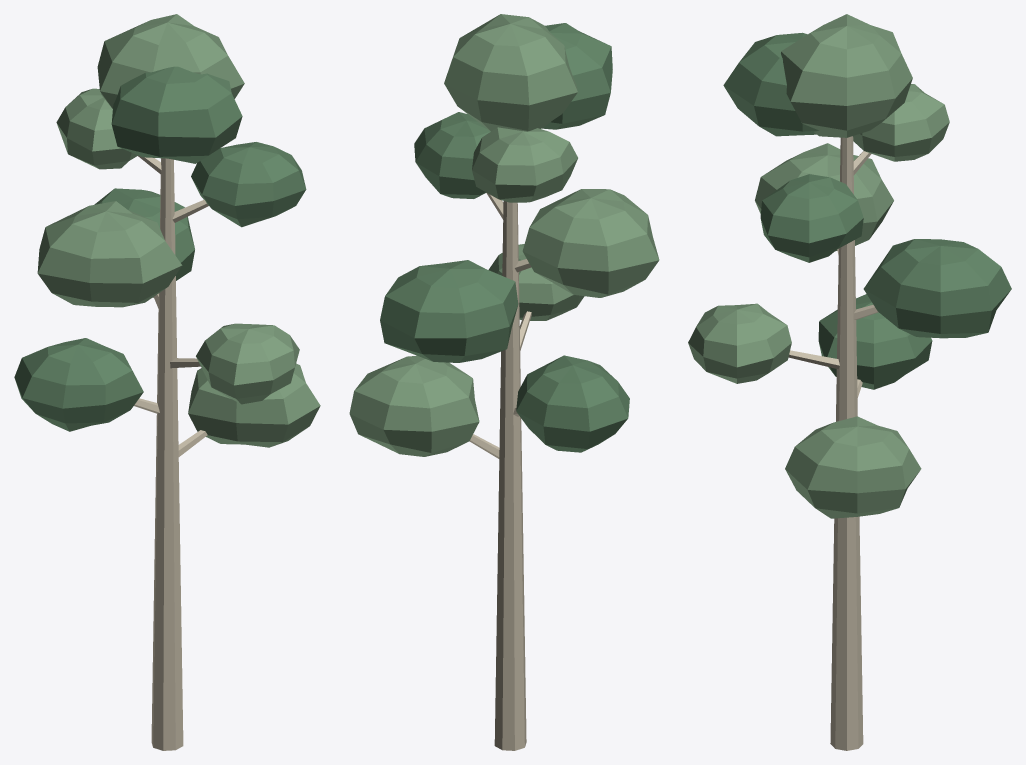
File: tree_eucalyptus_small.glb
3 views of the same model, side by side, from view 1: azimuth 30°, elevation 25°; view 2: azimuth 150°, elevation 25°; view 3: azimuth 270°, elevation 25° (orthographic).
Visible parts, largest first — view 1: tree_eucalyptus_small; view 2: tree_eucalyptus_small; view 3: tree_eucalyptus_small.
Part boxes in pixels (x1=…): tree_eucalyptus_small: x1=14, y1=14, x2=320, y2=750; tree_eucalyptus_small: x1=349, y1=14, x2=659, y2=750; tree_eucalyptus_small: x1=688, y1=14, x2=1011, y2=750.
Bounding box in the file's own units: 1.85 × 4.56 × 1.86.
